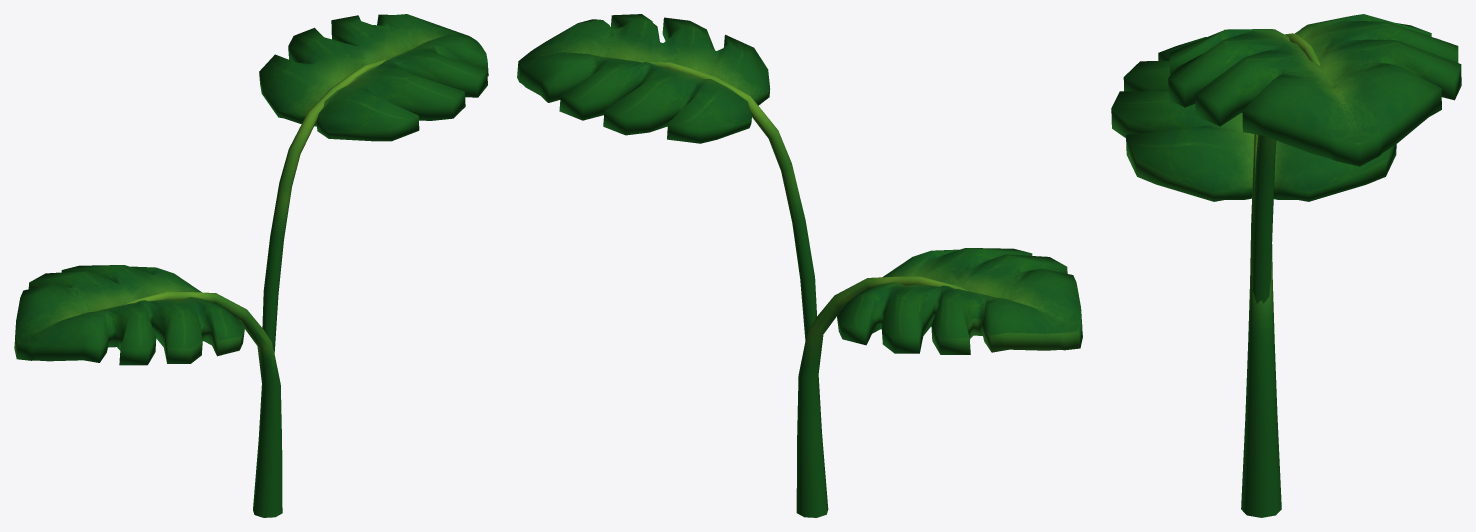
Rendered from CostelaDeAdao.fbx.
3 views of the same model, side by side, from view 1: azimuth 30°, elevation 25°; view 2: azimuth 150°, elevation 25°; view 3: azimuth 270°, elevation 25° (orthographic). The views are drawn at different scales.
Parts seen in each view (by area): view 1: CostelaDeAdao; view 2: CostelaDeAdao; view 3: CostelaDeAdao.
Boxes of the visible parts, x1=… form: CostelaDeAdao: x1=14, y1=14, x2=488, y2=517; CostelaDeAdao: x1=517, y1=14, x2=1082, y2=517; CostelaDeAdao: x1=1111, y1=14, x2=1461, y2=517.
Bounding box in the file's own units: 316 × 257 × 147.
